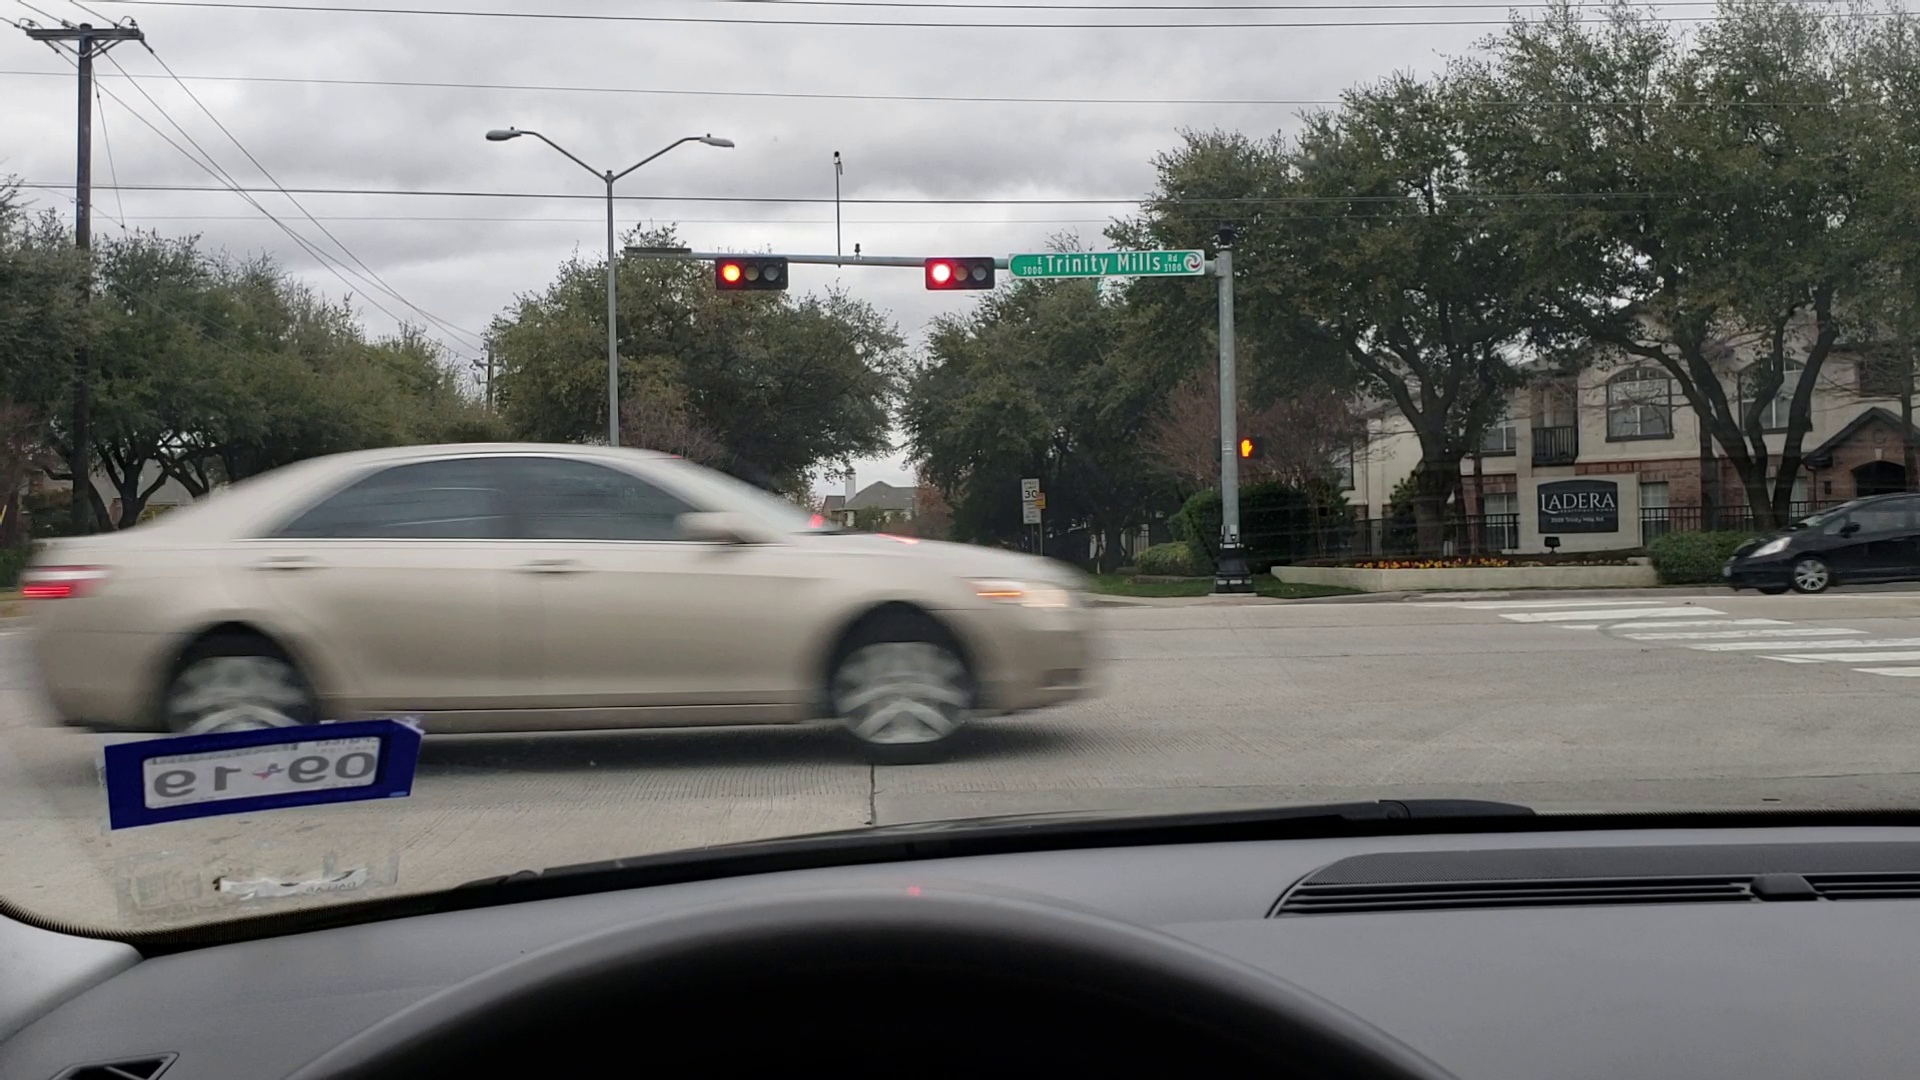car: (21, 435, 1135, 767), (1724, 480, 1915, 593)
traffic light: (716, 252, 790, 289), (923, 258, 997, 291)
